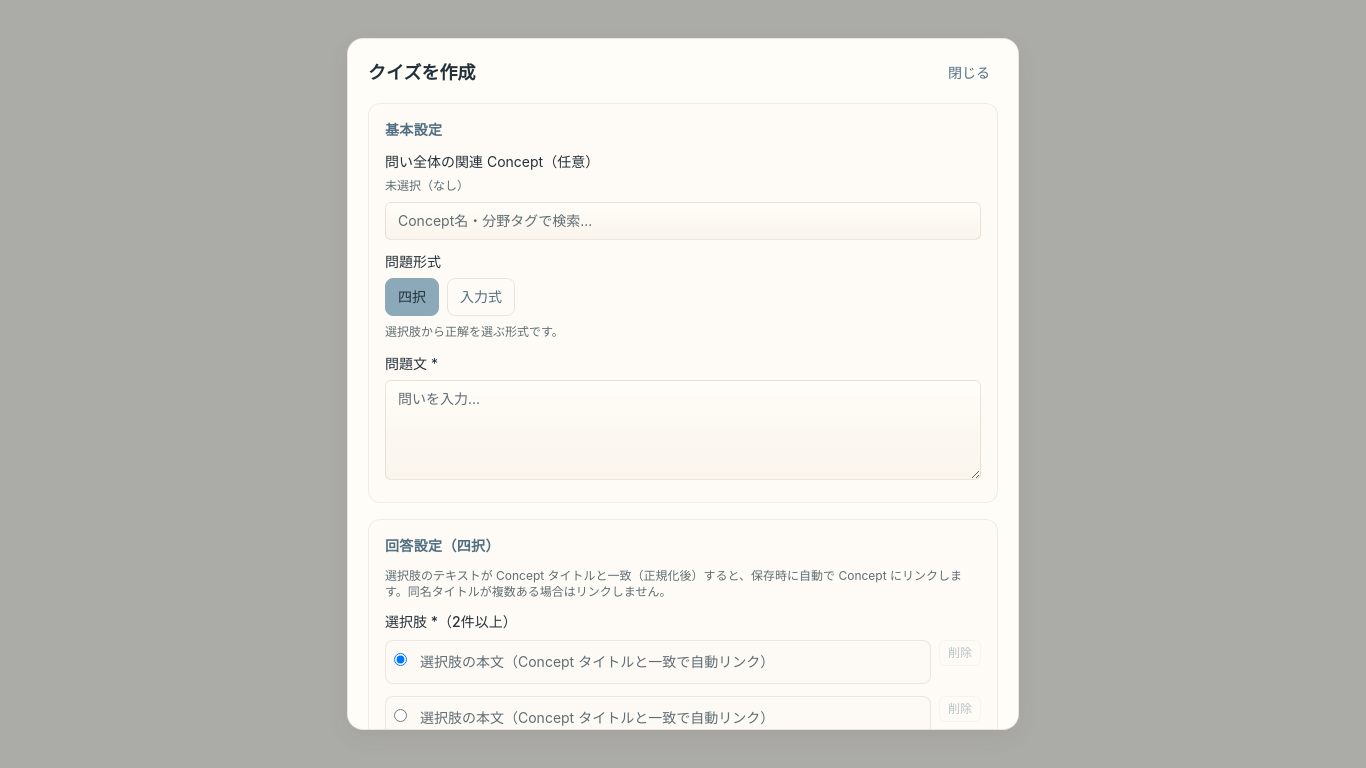
Test: QuizQuestionFormModal answer-type sections › 入力式へ切り替えると模範解答欄だけを出し、四択固有 UI を隠す
Click the button "入力式" at {"x": 481, "y": 297}, box [447,278,515,316]
(page scrolled)
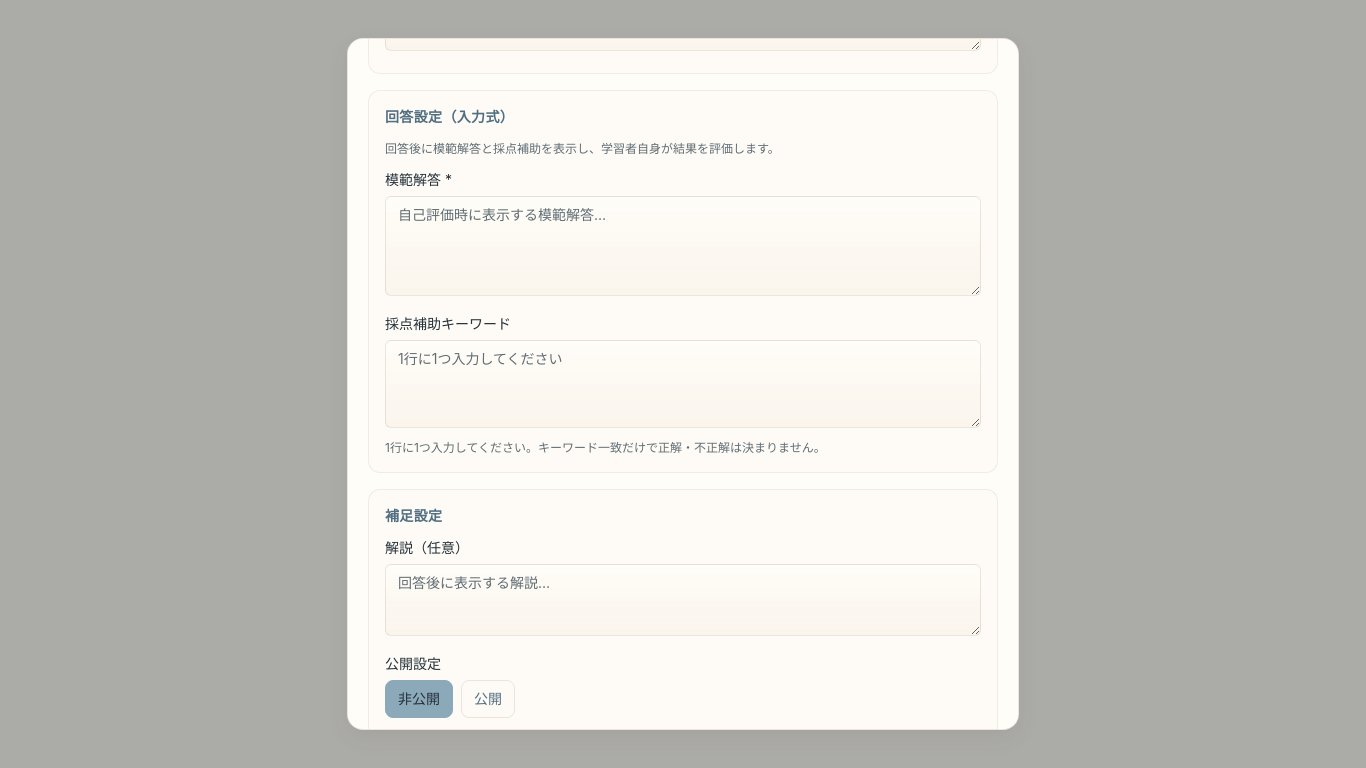
expect the heading "回答設定（入力式）" is shown: met, box [385,108,514,125]
expect the text box labelled "模範解答" is shown: met, box [385,196,981,296]
expect the text box labelled "採点補助キーワード" is shown: met, box [385,340,981,428]
